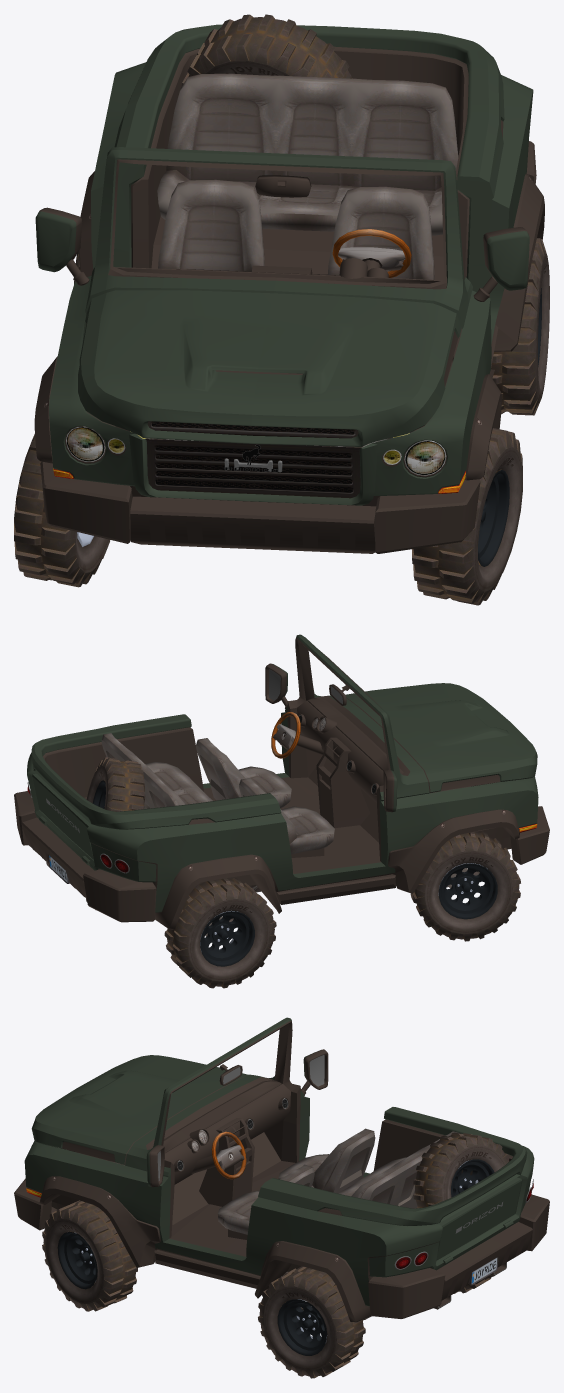
The picture shows the model from 3 angles, top to bottom: view 1: azimuth 30°, elevation 25°; view 2: azimuth 150°, elevation 25°; view 3: azimuth 270°, elevation 25°; orthographic projection. The views are drawn at different scales.
Visible parts, largest first — view 1: node_id109, node_id107, node_id98, node_id136, node_id117, node_id66, node_id95, node_id74, node_id38, node_id81, node_id70, node_id125 (+8 smaller); view 2: node_id109, node_id107, node_id136, node_id88, node_id91, node_id95, node_id84, node_id98, node_id93, node_id86, node_id66, node_id40 (+2 smaller); view 3: node_id109, node_id107, node_id136, node_id74, node_id81, node_id77, node_id66, node_id98, node_id79, node_id70, node_id72, node_id62 (+5 smaller).
Part boxes in pixels (left/top/right/bottom): node_id109: left=49, top=24, right=533, bottom=505; node_id107: left=34, top=46, right=544, bottom=553; node_id98: left=157, top=73, right=458, bottom=235; node_id136: left=158, top=179, right=434, bottom=279; node_id117: left=145, top=421, right=360, bottom=498; node_id66: left=181, top=14, right=352, bottom=86; node_id95: left=14, top=434, right=109, bottom=587; node_id74: left=412, top=428, right=522, bottom=605; node_id38: left=35, top=211, right=529, bottom=290; node_id81: left=491, top=238, right=547, bottom=415; node_id70: left=473, top=447, right=522, bottom=591; node_id125: left=66, top=426, right=446, bottom=475; node_id109: left=27, top=634, right=538, bottom=912; node_id107: left=14, top=637, right=549, bottom=929; node_id136: left=196, top=738, right=334, bottom=854; node_id88: left=164, top=877, right=276, bottom=988; node_id91: left=424, top=851, right=512, bottom=934; node_id95: left=410, top=831, right=520, bottom=941; node_id84: left=188, top=899, right=269, bottom=981; node_id98: left=101, top=733, right=212, bottom=808; node_id93: left=438, top=863, right=497, bottom=919; node_id86: left=200, top=910, right=254, bottom=966; node_id66: left=94, top=757, right=144, bottom=811; node_id40: left=265, top=663, right=394, bottom=812; node_id109: left=24, top=1017, right=534, bottom=1306; node_id107: left=14, top=1021, right=549, bottom=1322; node_id136: left=217, top=1128, right=375, bottom=1234; node_id74: left=42, top=1200, right=137, bottom=1311; node_id81: left=258, top=1266, right=365, bottom=1378; node_id77: left=263, top=1286, right=336, bottom=1370; node_id66: left=413, top=1132, right=509, bottom=1208; node_id98: left=338, top=1131, right=459, bottom=1208; node_id79: left=277, top=1299, right=327, bottom=1355; node_id70: left=45, top=1219, right=104, bottom=1304; node_id72: left=57, top=1231, right=97, bottom=1289; node_id62: left=442, top=1145, right=505, bottom=1200.
Size of the model in its own units: 0.5245 by 0.2745 by 0.5805.
Materials: 49 (49 with a texture image).
